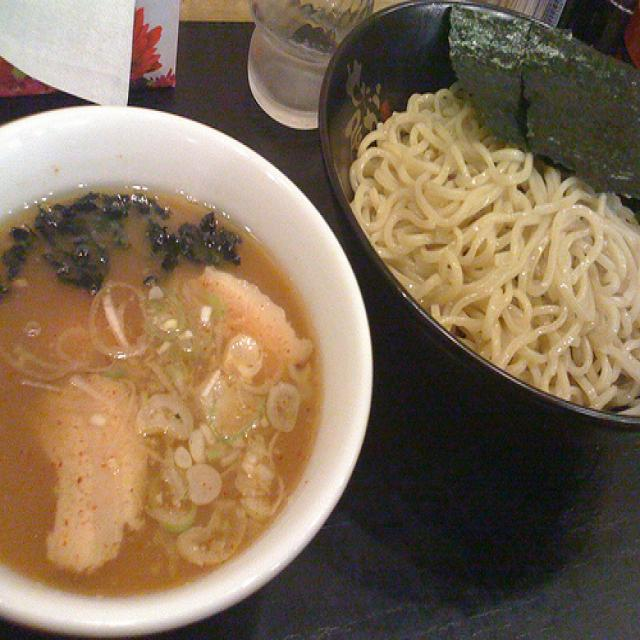面条主食: (0, 42, 634, 612)
